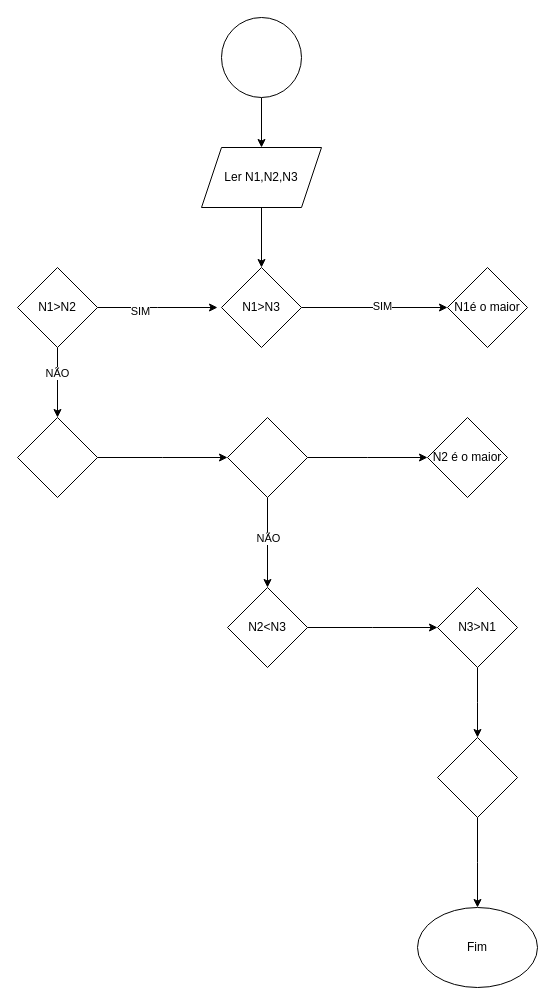
This 555x1005 diagram has some shape labels left out. The centre of each missing label's shape, as x and y in pixels:
Início: the point at 261,57
N1<N2: the point at 57,457
N2>N3: the point at 267,457
N3 é o maior: the point at 477,777
